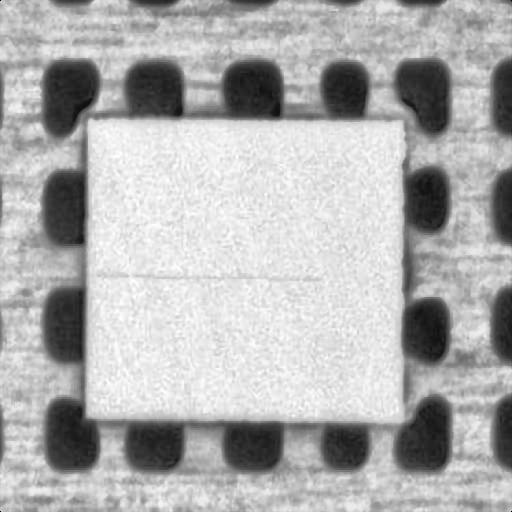DIE_CRACK: (93, 262, 324, 284)
